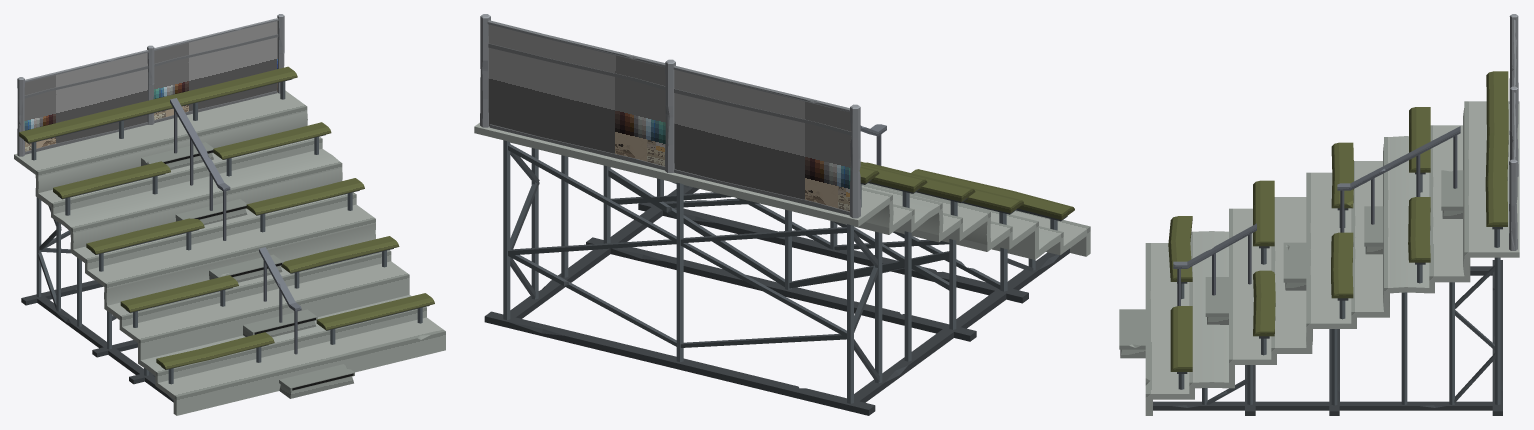
The model's file is bleachers.glb.
3 views of the same model, side by side, from view 1: azimuth 30°, elevation 25°; view 2: azimuth 150°, elevation 25°; view 3: azimuth 270°, elevation 25° (orthographic). The views are drawn at different scales.
Visible parts, largest first — view 1: SM_Prop_Bleachers_01; view 2: SM_Prop_Bleachers_01; view 3: SM_Prop_Bleachers_01.
Part boxes in pixels (x1=…): SM_Prop_Bleachers_01: x1=14, y1=14, x2=445, y2=415; SM_Prop_Bleachers_01: x1=474, y1=14, x2=1090, y2=415; SM_Prop_Bleachers_01: x1=1119, y1=14, x2=1519, y2=415.
Bounding box in the file's own units: 5 × 3.9 × 5.61.
Materials: 2 (2 with a texture image).
